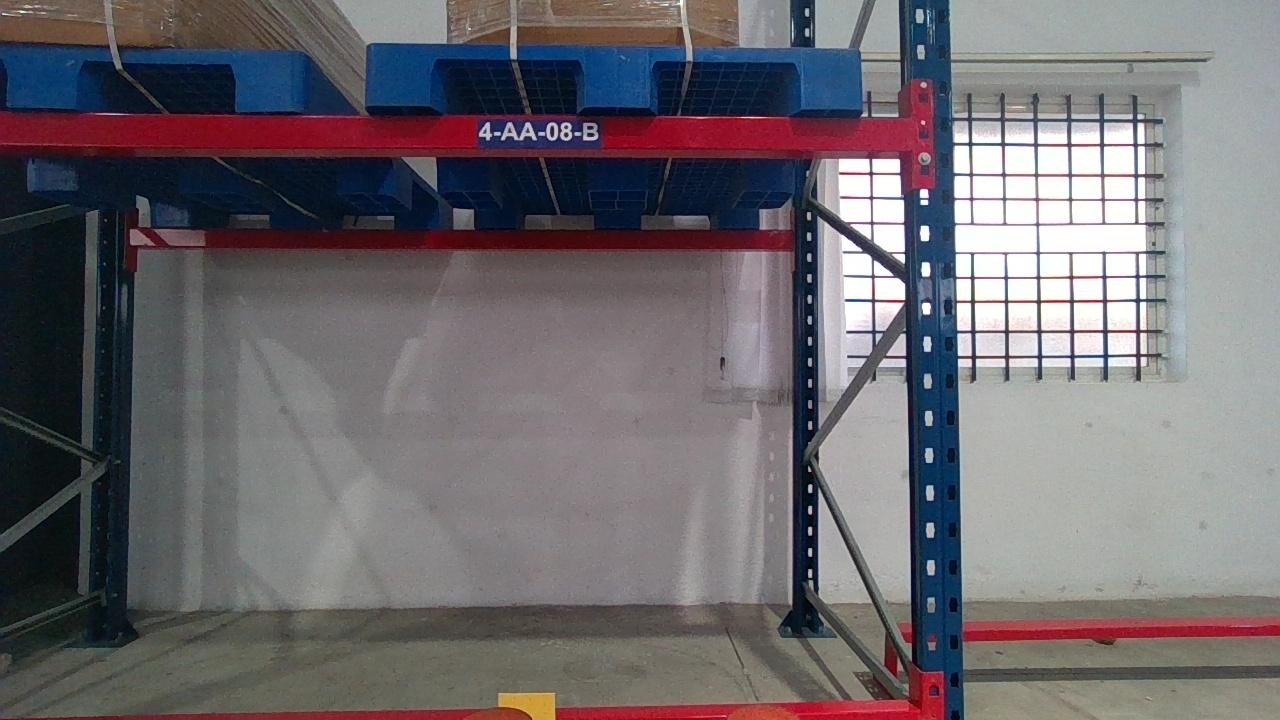h_rack: (3, 110, 919, 150)
small_pallet: (366, 42, 865, 108), (2, 46, 303, 109)
